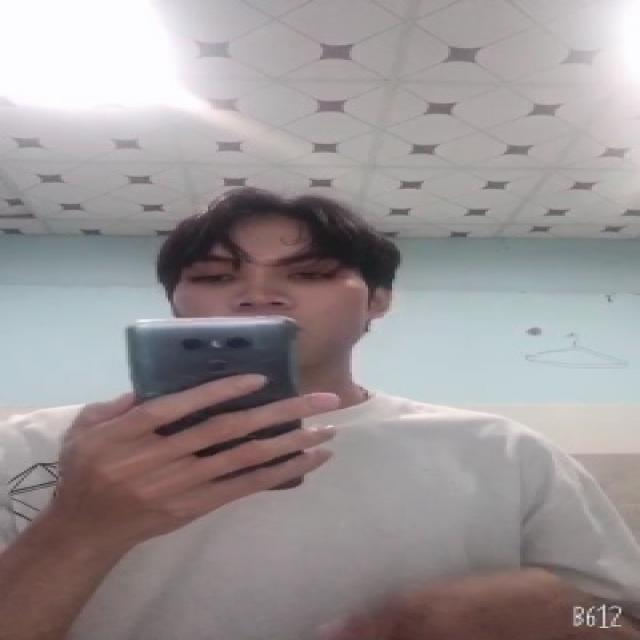Phone: (122, 316, 305, 491)
